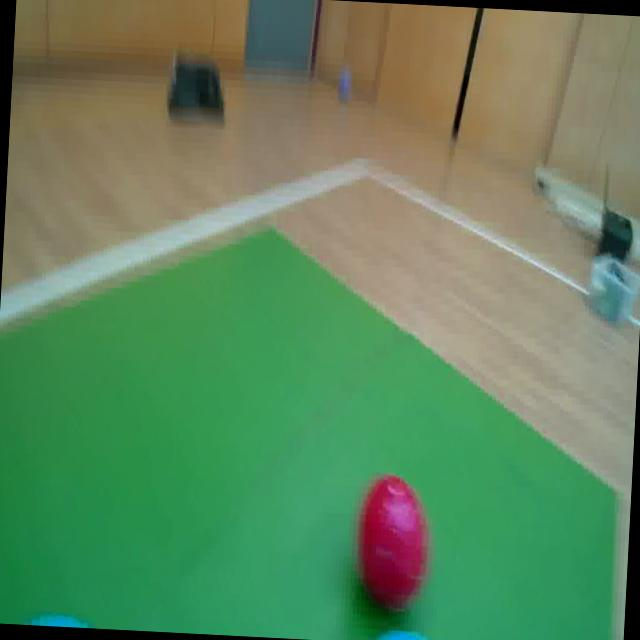red_ball: (350, 467, 432, 620)
